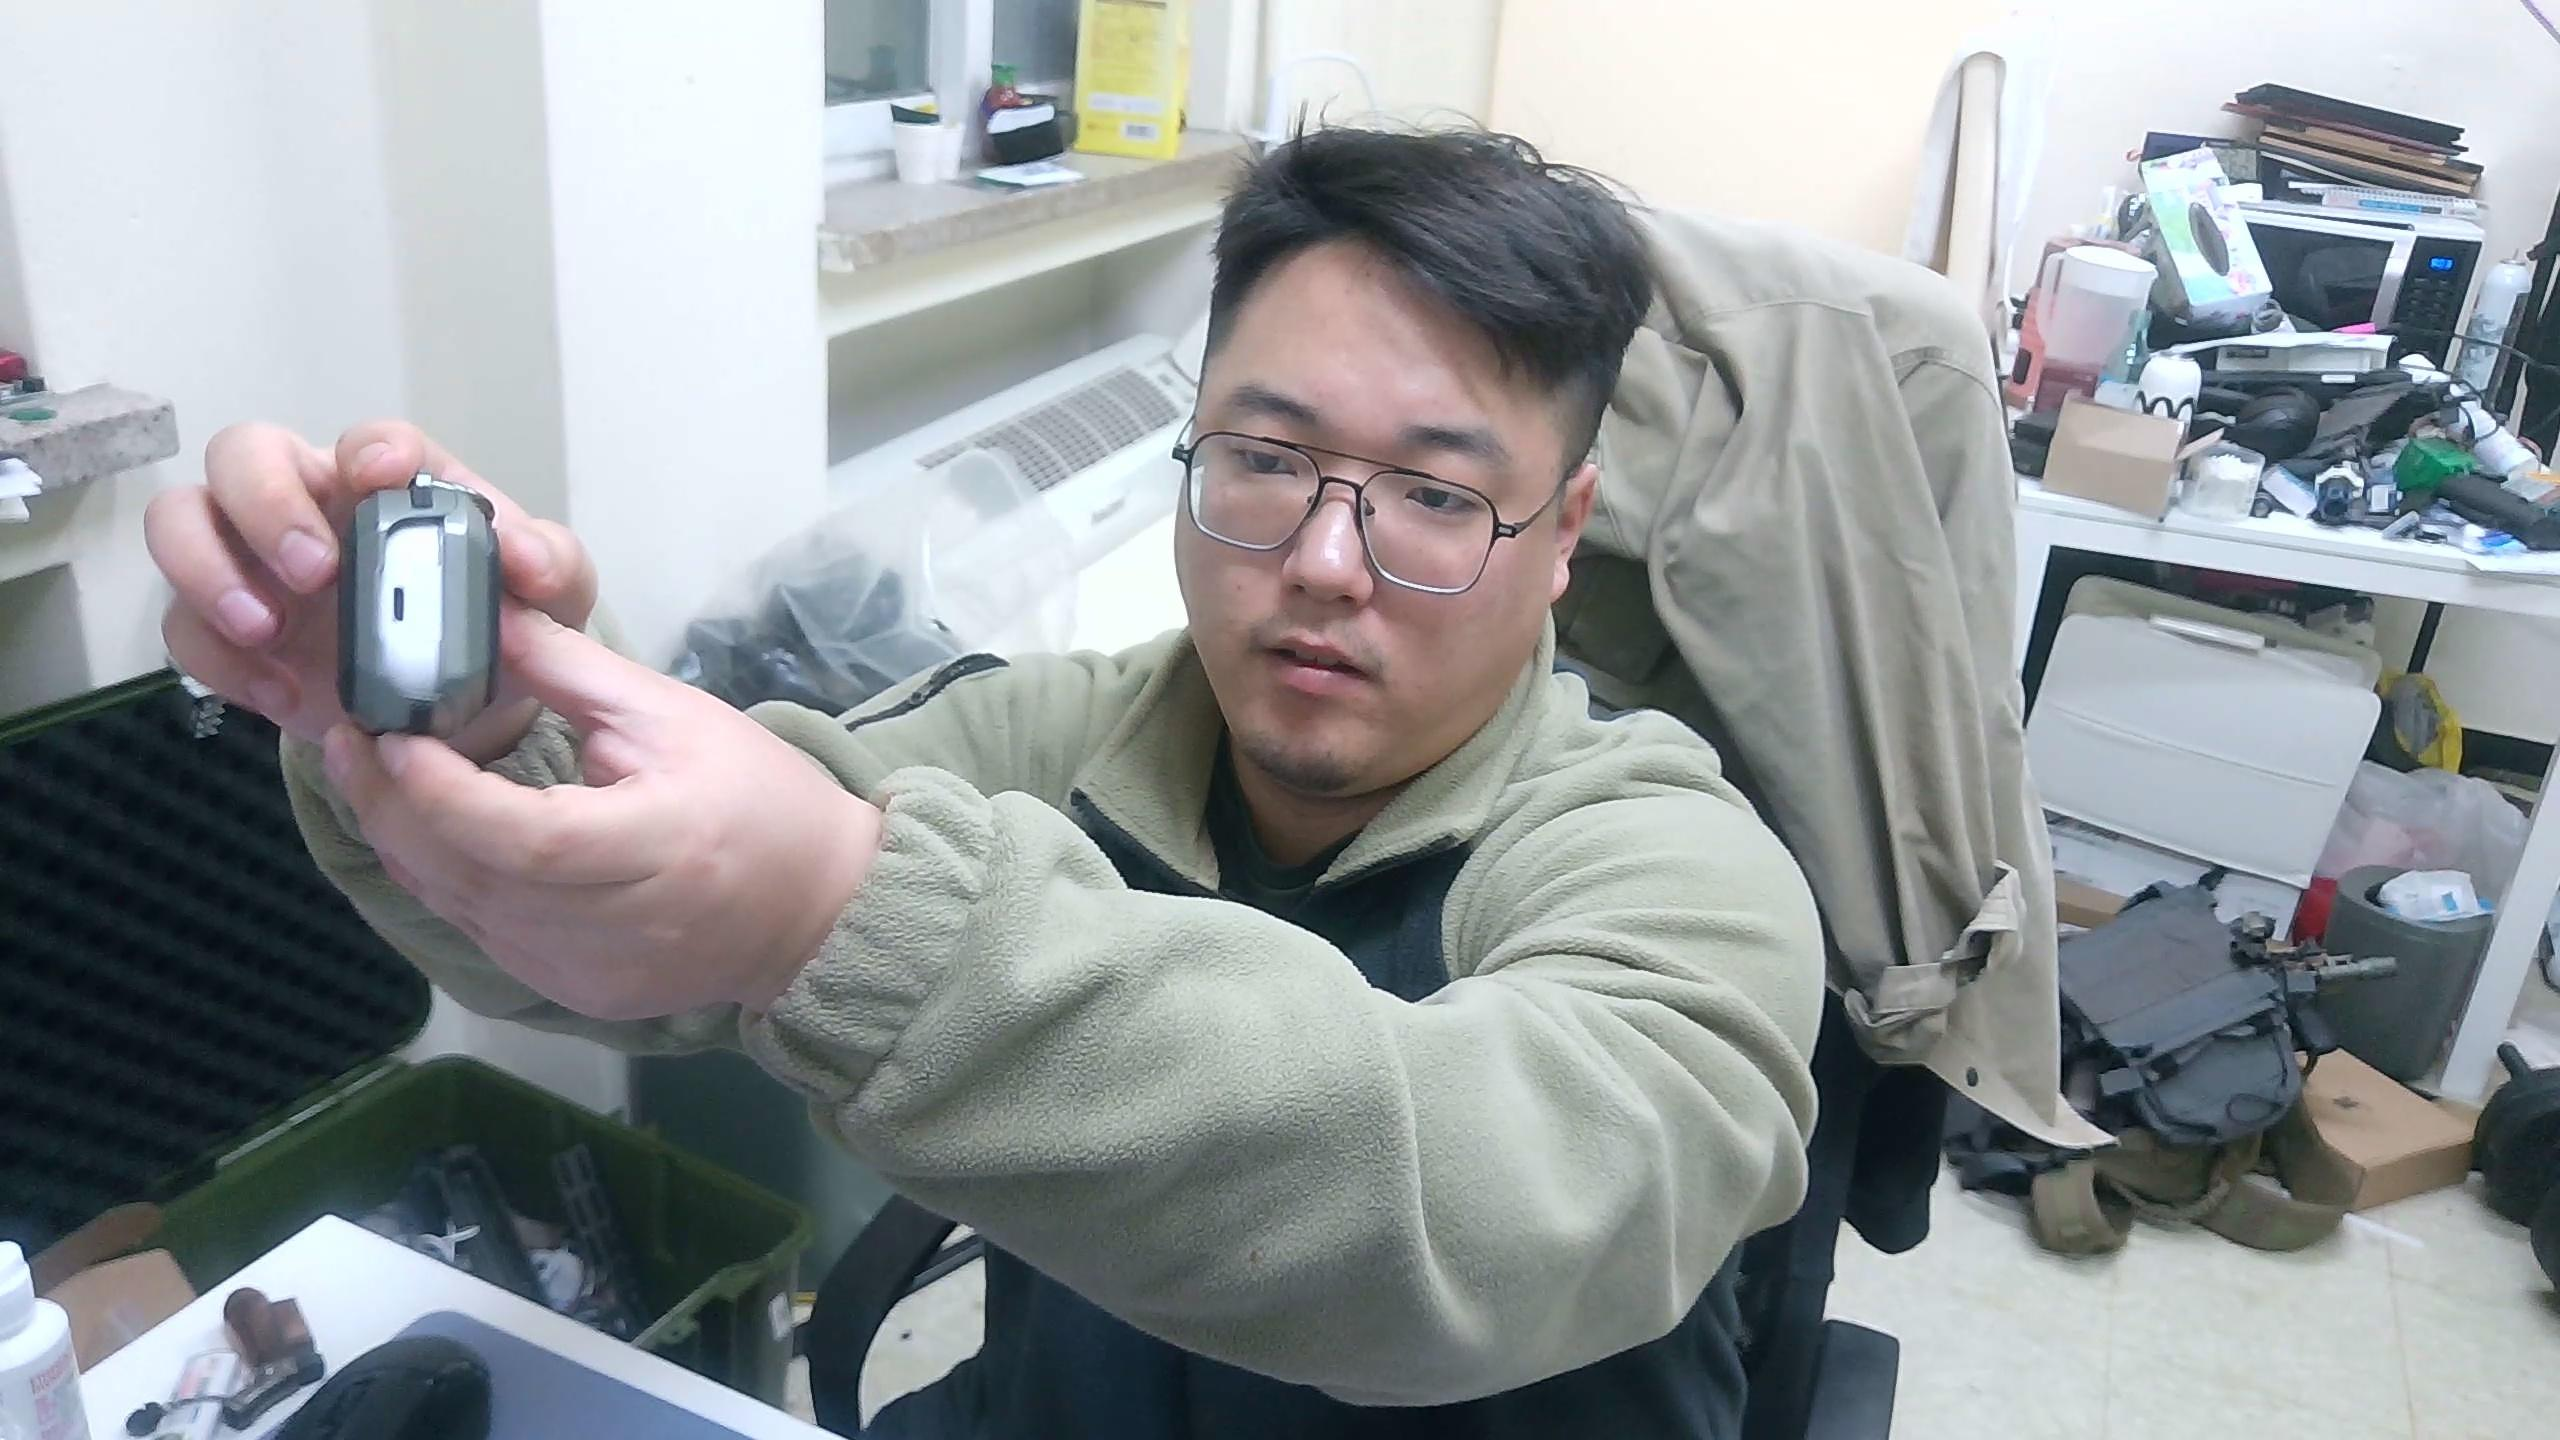blue_pliers: (341, 471, 506, 740)
